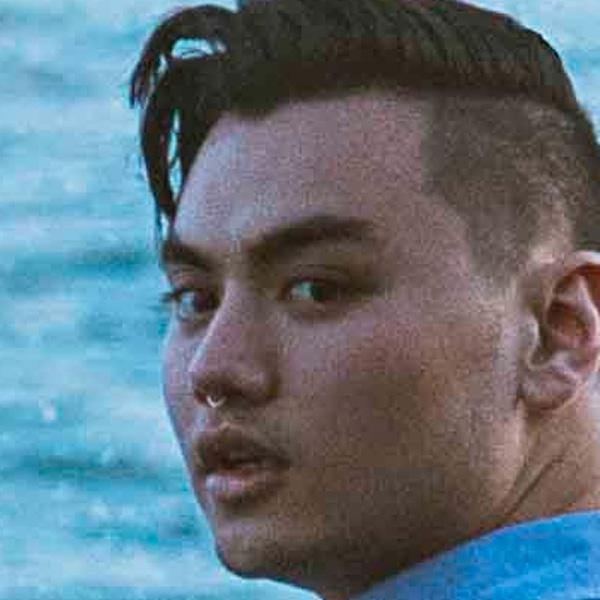Eyes: (269, 259, 360, 318), (166, 265, 224, 331)
